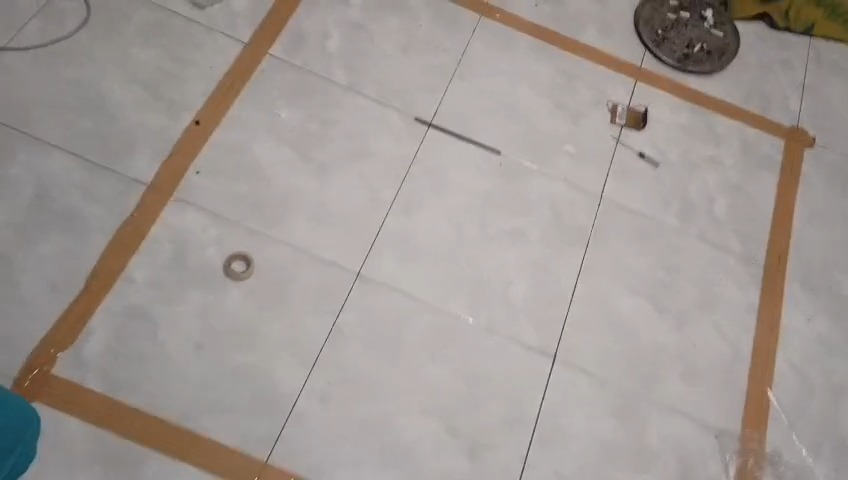floor marking: (456, 0, 814, 442), (13, 0, 299, 479)
